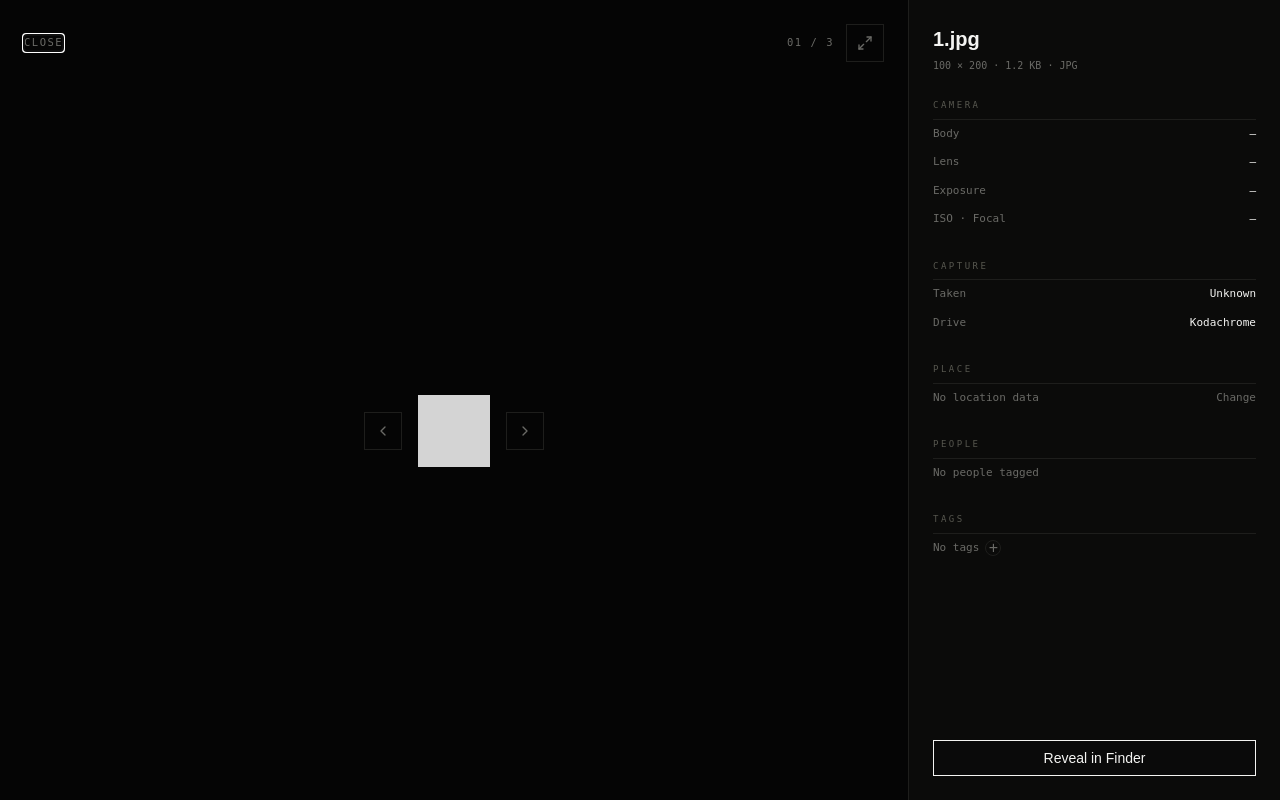
Test: toggles fullscreen, hiding and reshowing the metadata panel
Expected: the button "Reveal in Finder" is shown, left=933, top=740, right=1256, bottom=776
Click the button named "Enter full screen" at (865, 43), box left=846, top=24, right=884, bottom=62
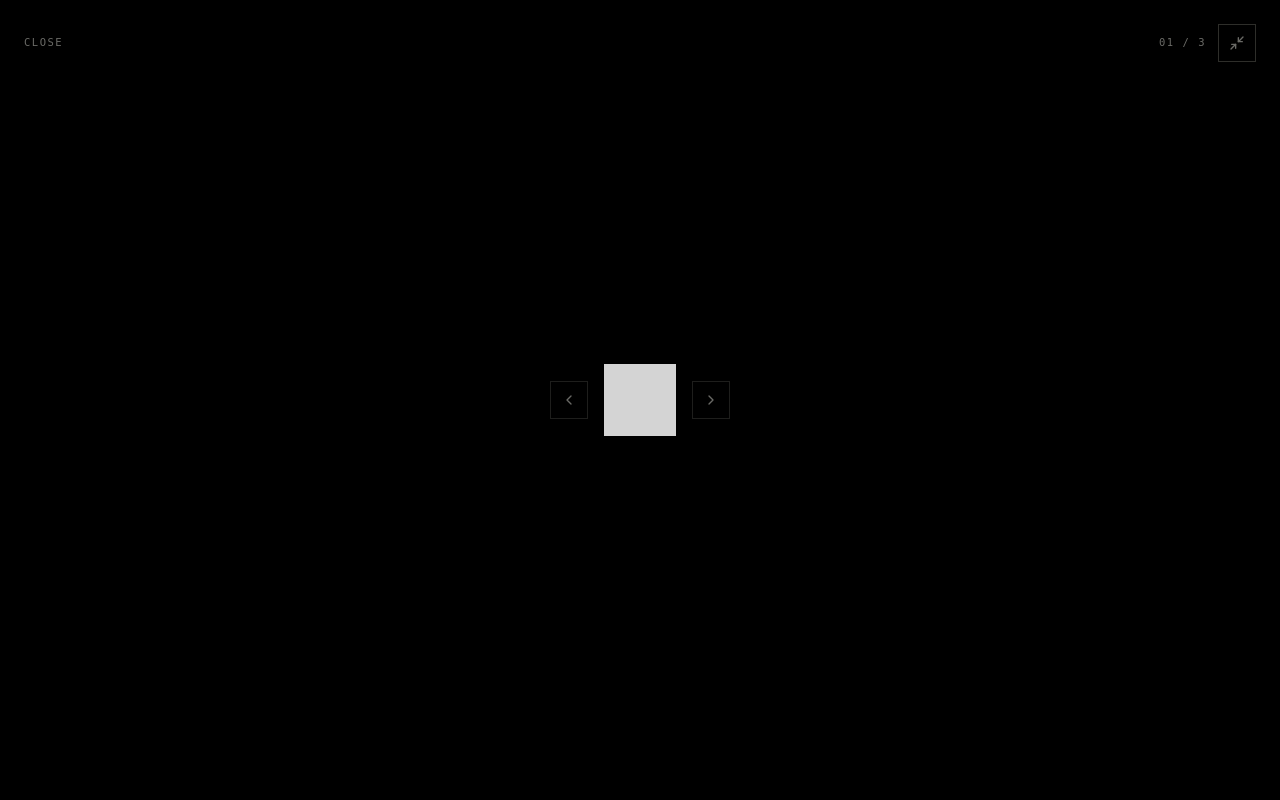
Expected: the button "Reveal in Finder" is gone
Click the button named "Exit full screen" at (1237, 43), box left=1218, top=24, right=1256, bottom=62
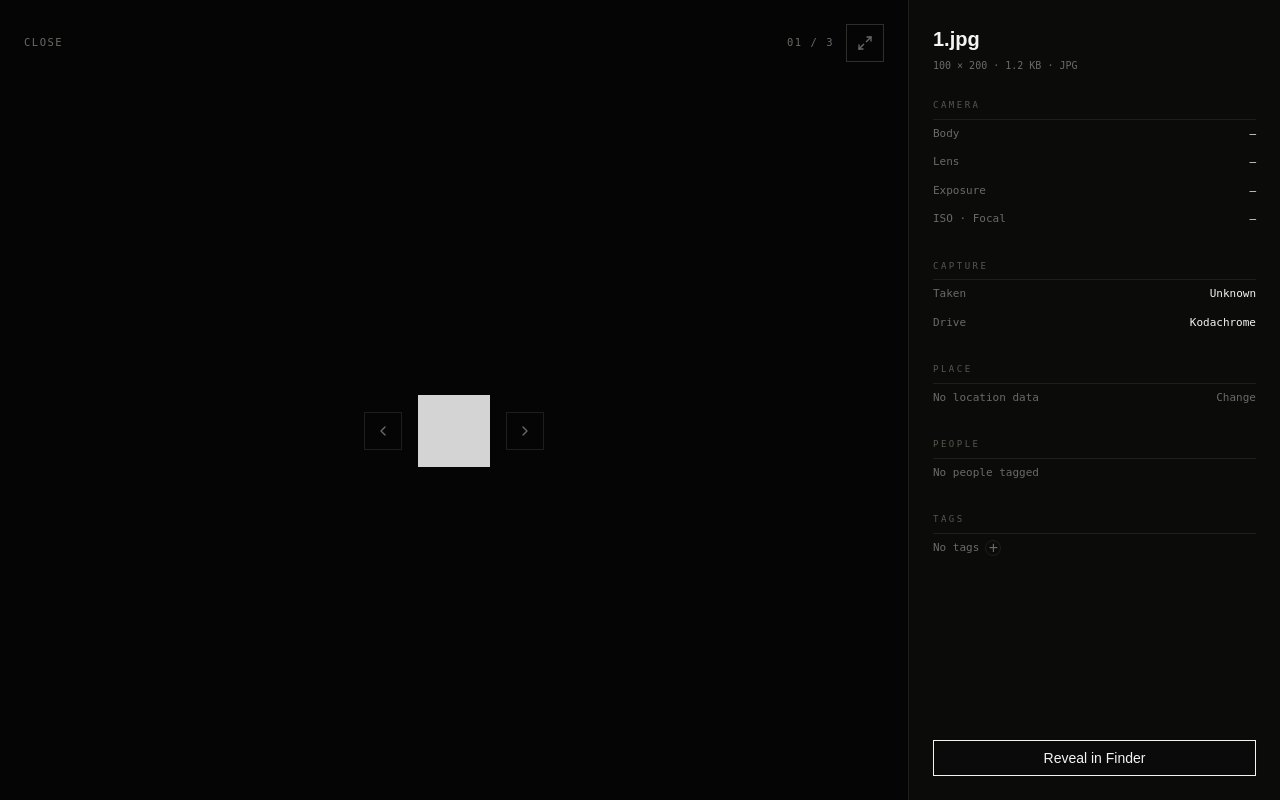
Expected: the button "Reveal in Finder" is shown, left=933, top=740, right=1256, bottom=776
